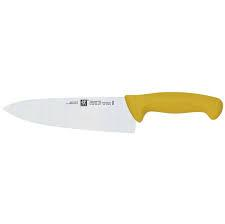Knife: (2, 91, 223, 133)
